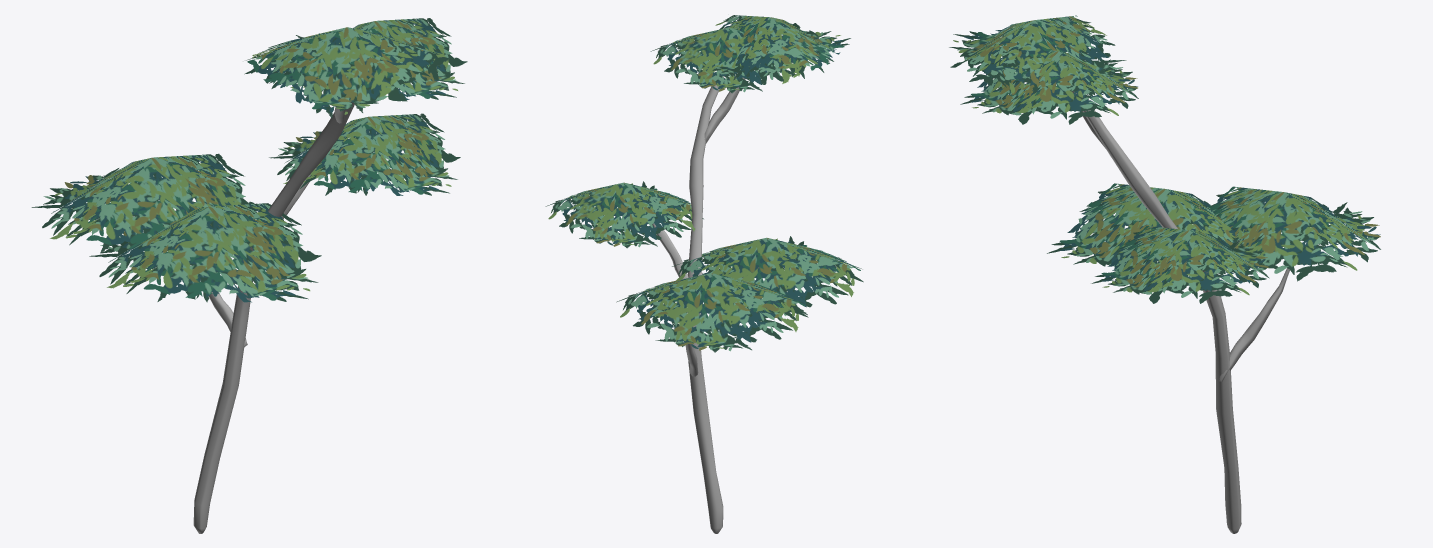
File: green_tree.fbx
3 views of the same model, side by side, from view 1: azimuth 30°, elevation 25°; view 2: azimuth 150°, elevation 25°; view 3: azimuth 270°, elevation 25° (orthographic). The views are drawn at different scales.
Visible parts, largest first — view 1: pPlane114; view 2: pPlane114; view 3: pPlane114.
Part boxes in pixels (left/top/right/bottom): pPlane114: left=31, top=18, right=467, bottom=533; pPlane114: left=545, top=15, right=863, bottom=533; pPlane114: left=949, top=15, right=1380, bottom=533.
Size of the model in its own units: 1.59 by 2.17 by 1.84.
